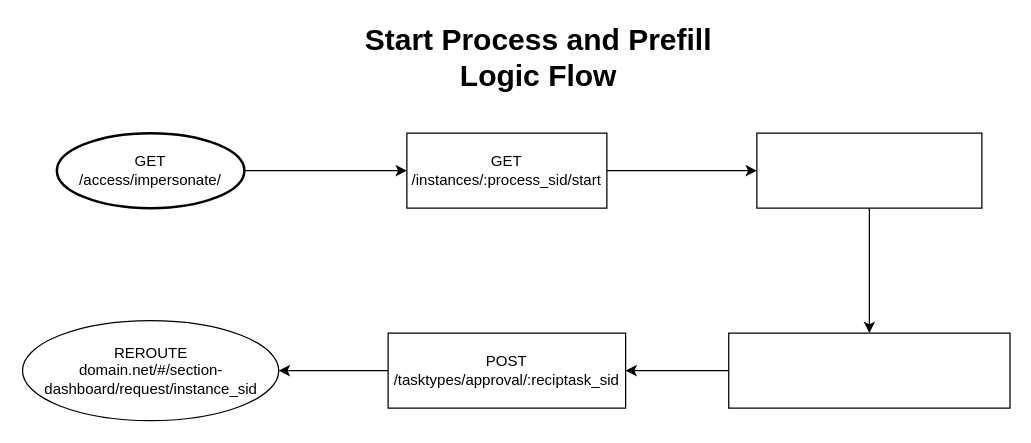
Some shapes in this 1031 by 443 pixel diagram are drawn without their labels. The centre of each missing label's shape, as x and y in pixels:
"GET /instances/:instance_sid/tasks/ :task_sid/reciptasks/:status" goes at pixel 869 170.
"POST /tasktypes/data-container/ instances/tasks/reciptasks/:reciptask_sid" goes at pixel 869 370.
